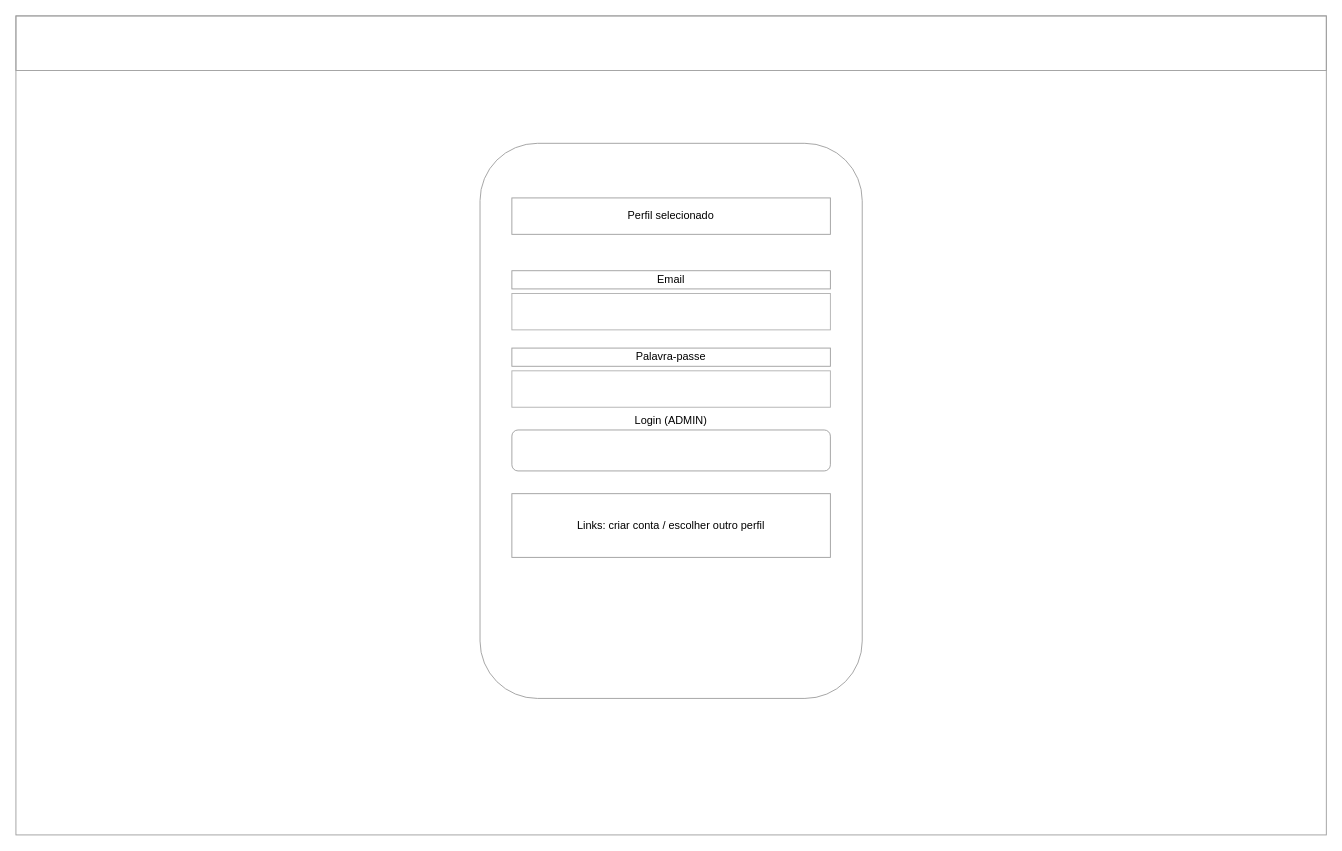
Some shapes in this 1342 by 851 pixel diagram are drawn without their labels. Here are the shapes that lost their labels. From the top down, the centre of each, then its label:
At point (670, 43): "Header".
At point (670, 450): "ENTRAR".
